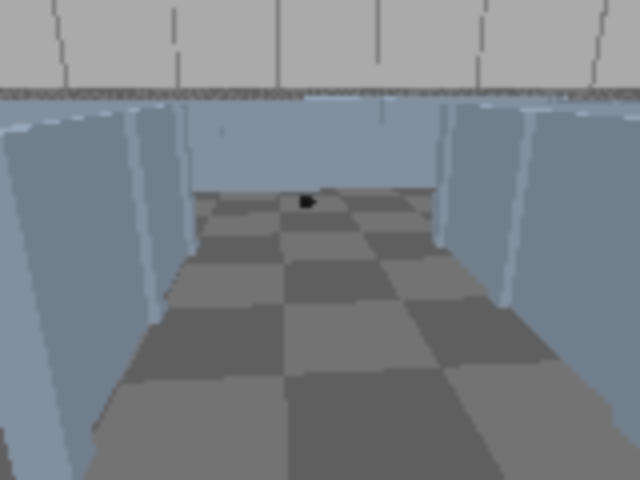puck: (298, 193, 317, 211)
